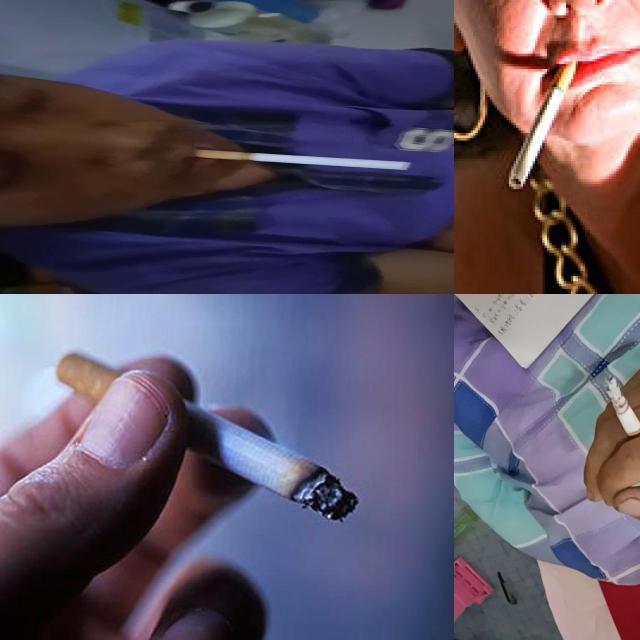smoking: (55, 352, 359, 522), (507, 60, 577, 190), (188, 148, 416, 172), (606, 376, 640, 449)
